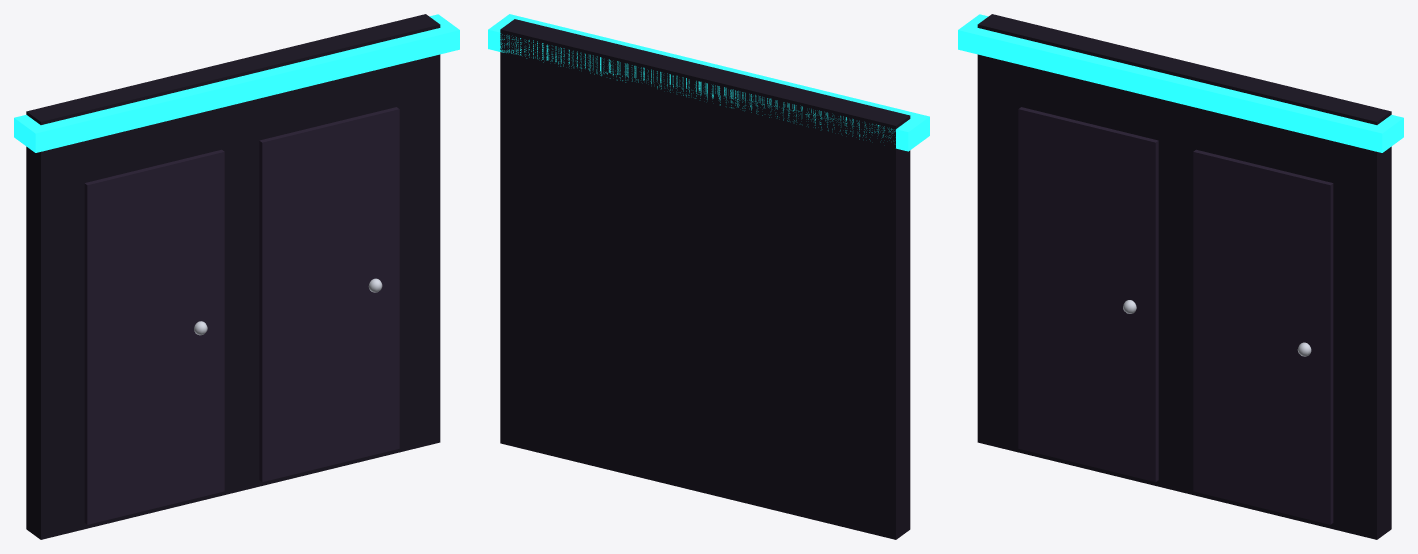
File: EntranceDoors.glb
3 renders of one model, left to right at view 1: azimuth 30°, elevation 25°; view 2: azimuth 150°, elevation 25°; view 3: azimuth 330°, elevation 25°, orthographic.
Visible parts, largest first — view 1: EntranceDoors; view 2: EntranceDoors; view 3: EntranceDoors.
Part boxes in pixels (x1=…): EntranceDoors: x1=14, y1=14, x2=459, y2=539; EntranceDoors: x1=488, y1=14, x2=929, y2=539; EntranceDoors: x1=958, y1=14, x2=1403, y2=539.
Bounding box in the file's own units: 3.4 × 3.2 × 0.3.
